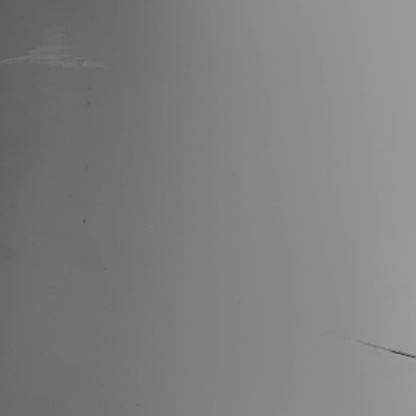sunshang: (1, 23, 112, 70), (345, 335, 416, 363)
